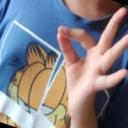hand: (56, 6, 128, 117)
